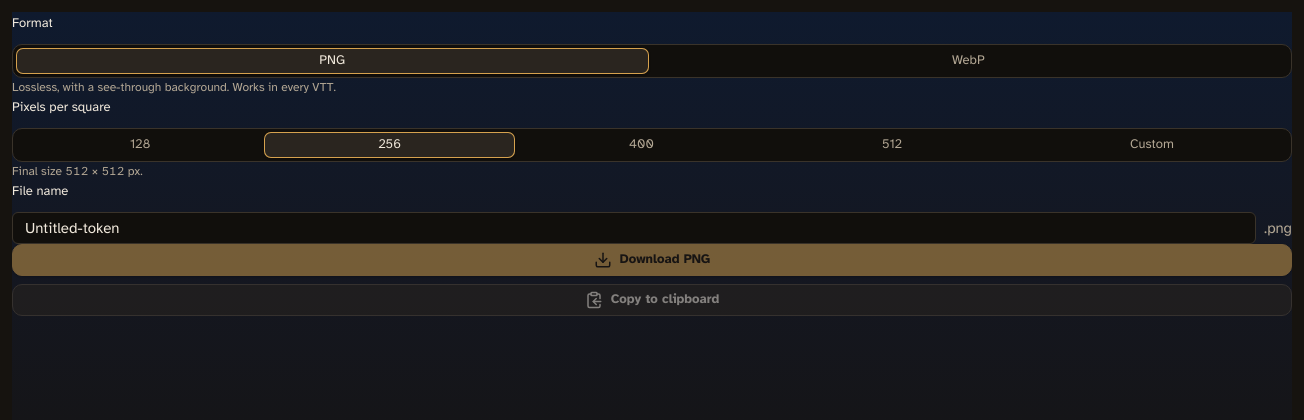
Export section › shows the final size for the creature and the cap
The width and height of the screenshot is (1304, 420).
Check: the element with test id "export-size" shows "512 × 512 px", box [12,164,143,178]
Click the radio button labelled "400" at point(641, 145), box [515,132,768,158]
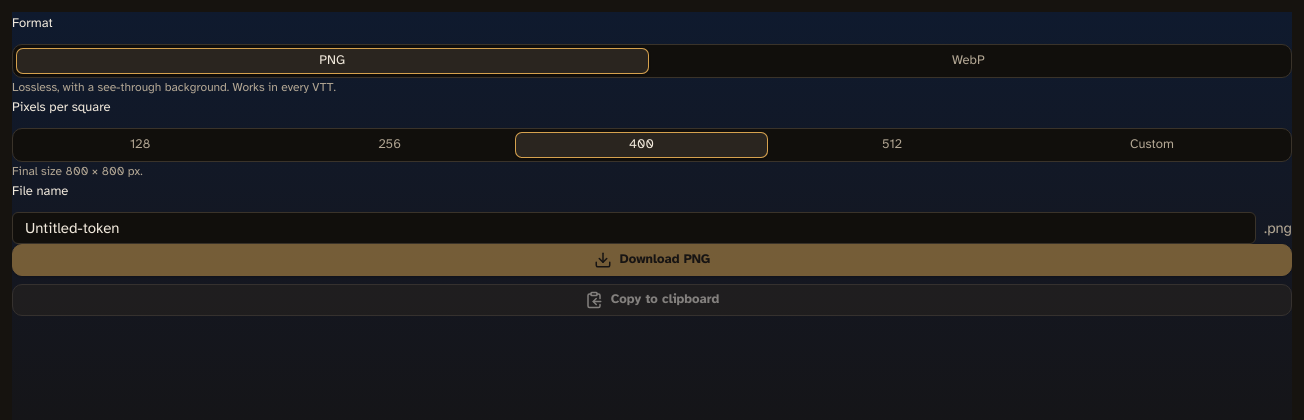
Check: the element with test id "export-size" shows "800 × 800 px", box [12,164,143,178]
Click the radio button labelled "Custom" at point(1152, 145), box [1016,132,1288,158]
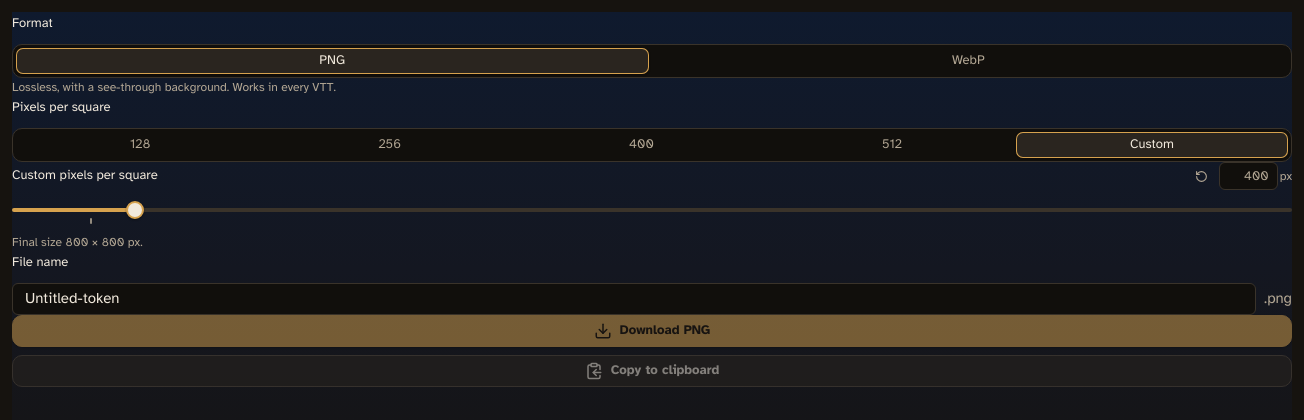
Replace the text in the field named "Custom pixels per square value" with "3000" at point(1248, 176), box [1219,162,1278,190]
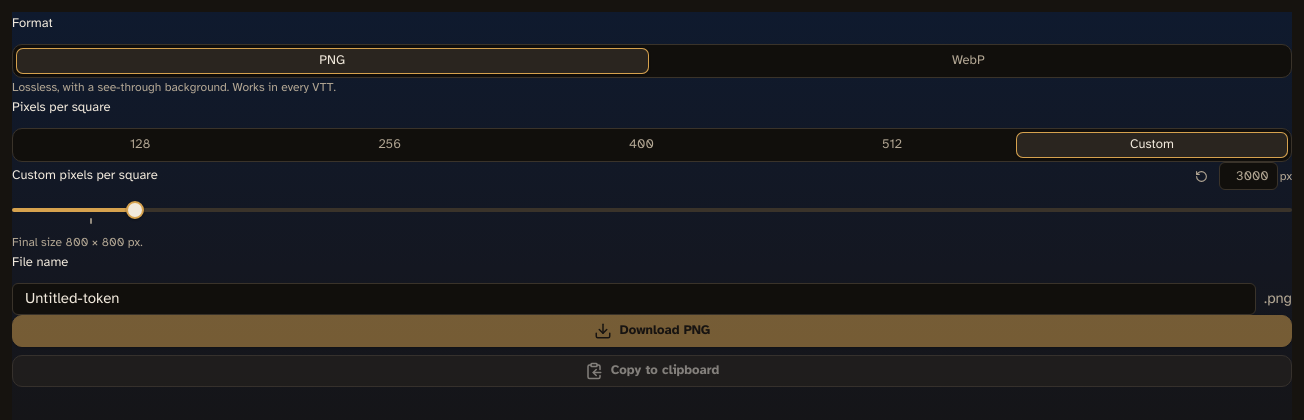
Leave the field named "Custom pixels per square value", box [1219,162,1278,190]
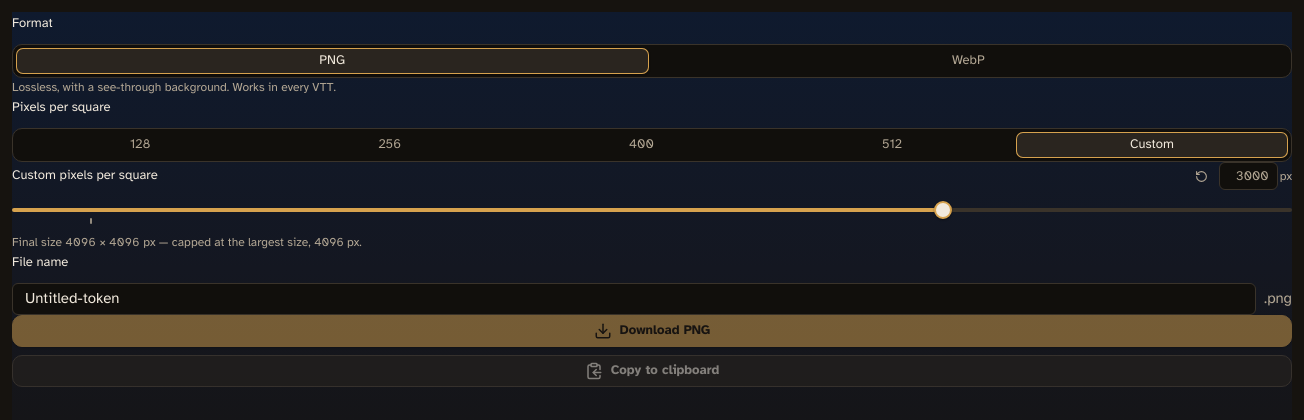
Check: the element with test id "export-size" shows "4096 × 4096 px — capped", box [12,234,362,248]
